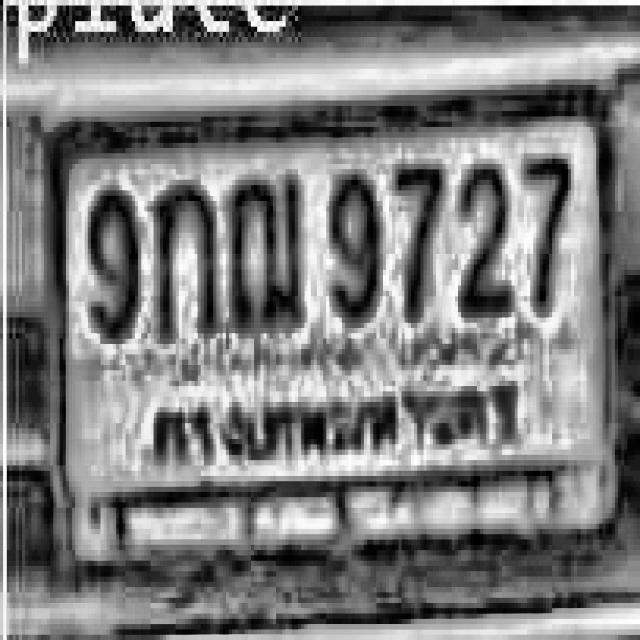license-plate: (34, 86, 622, 575)
